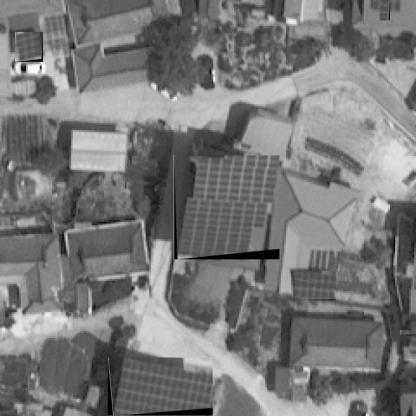solar-pv-panel: (177, 155, 280, 256), (112, 358, 213, 416), (294, 271, 335, 300), (15, 32, 42, 61), (380, 0, 390, 20), (400, 330, 416, 335)
